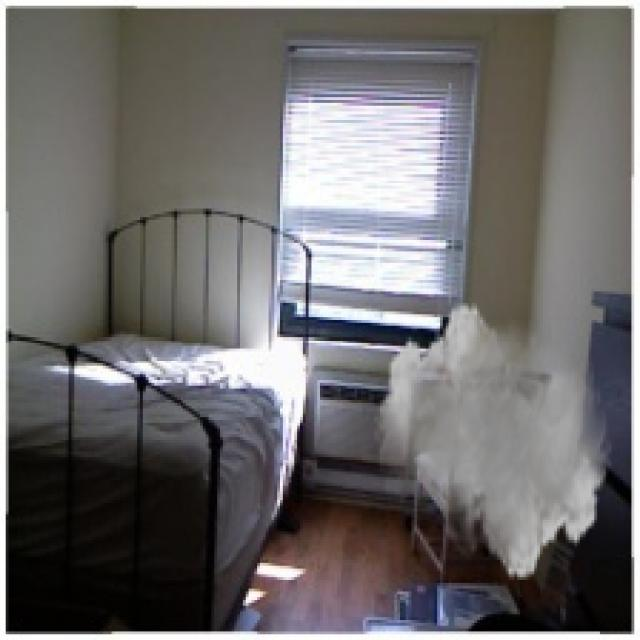smoke: (374, 300, 612, 583)
